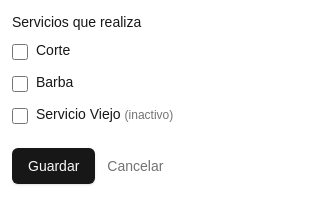
it: BarberServicesForm - submission in flight › should_disable_the_whole_group_not_just_the_submit_button
Click the button "Guardar": (54, 166) [12, 148, 95, 184]
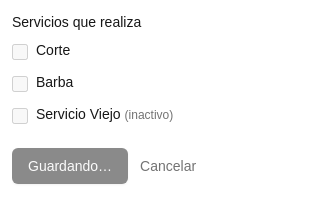
expect the element showing "Servicios que realiza Corte Barba Servicio Viejo(inactivo)" is disabled: met, box [12, 14, 173, 124]
expect the button "Guardando…" is disabled: met, box [12, 148, 128, 184]
